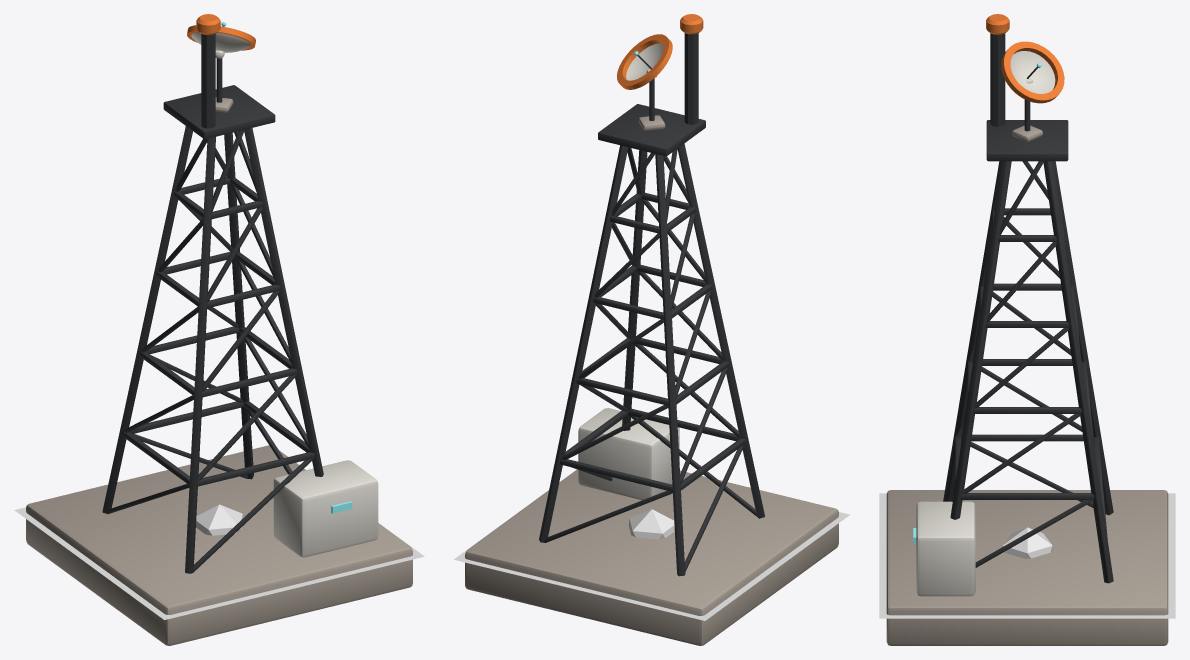
File: sensor_tower_1x1.gltf
3 renders of one model, left to right at view 1: azimuth 30°, elevation 25°; view 2: azimuth 150°, elevation 25°; view 3: azimuth 270°, elevation 25°, orthographic. The views are drawn at different scales.
Parts seen in each view (by area): view 1: SensorTower, %P%Footprint, %P%Center; view 2: SensorTower, %P%Footprint, %P%Center; view 3: SensorTower, %P%Footprint, %P%Center.
Part boxes in pixels (x1,y1,x2,y2): SensorTower: (26,14,412,645); %P%Footprint: (14,449,424,619); %P%Center: (196,504,243,535); SensorTower: (465,14,838,645); %P%Footprint: (454,469,849,620); %P%Center: (628,509,674,539); SensorTower: (886,14,1168,645); %P%Footprint: (879,493,1175,618); %P%Center: (1002,527,1052,558).
Bounding box in the file's own units: 2 × 4.15 × 2.
